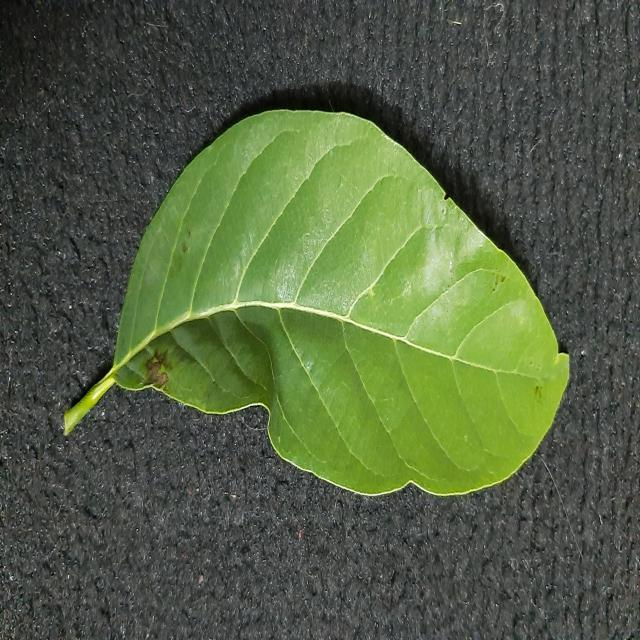seethaphala: (65, 111, 569, 493)
